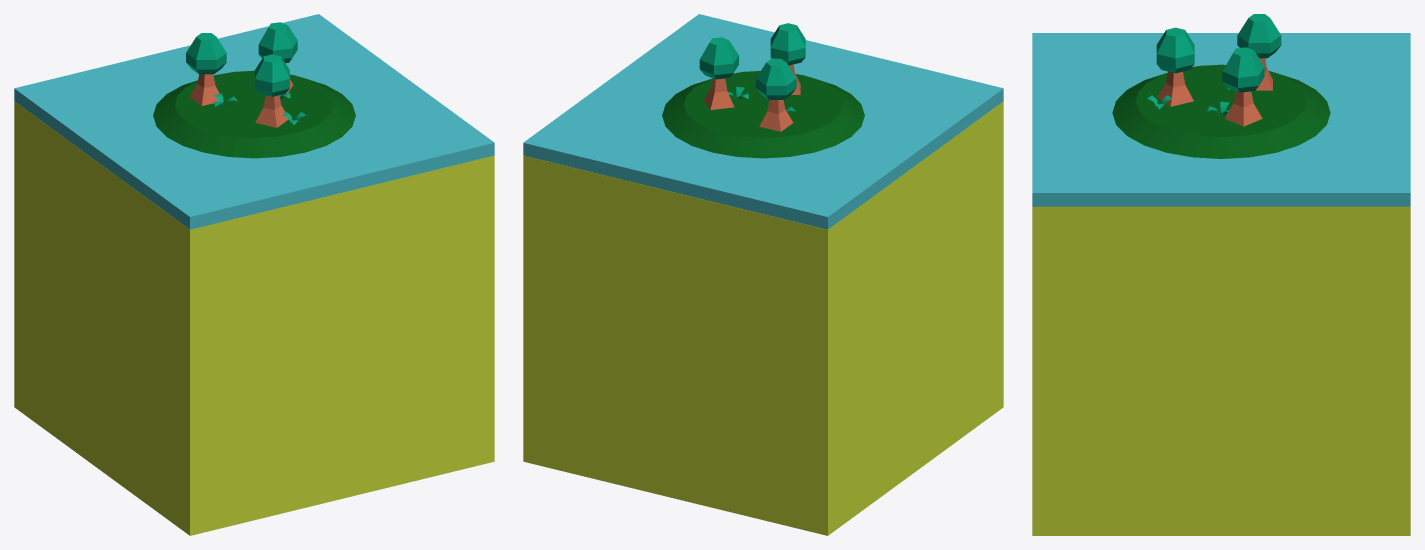
Rendered from Isla2.obj.
The picture shows the model from 3 angles, left to right: view 1: azimuth 30°, elevation 25°; view 2: azimuth 150°, elevation 25°; view 3: azimuth 270°, elevation 25°; orthographic projection. The views are drawn at different scales.
Visible parts, largest first — view 1: mergedBlocks; view 2: mergedBlocks; view 3: mergedBlocks.
Part boxes in pixels (<box>): mergedBlocks: <box>14,14,494,535</box>; mergedBlocks: <box>523,14,1003,535</box>; mergedBlocks: <box>1032,14,1410,535</box>.
Bounding box in the file's own units: 1 × 1.23 × 1.
